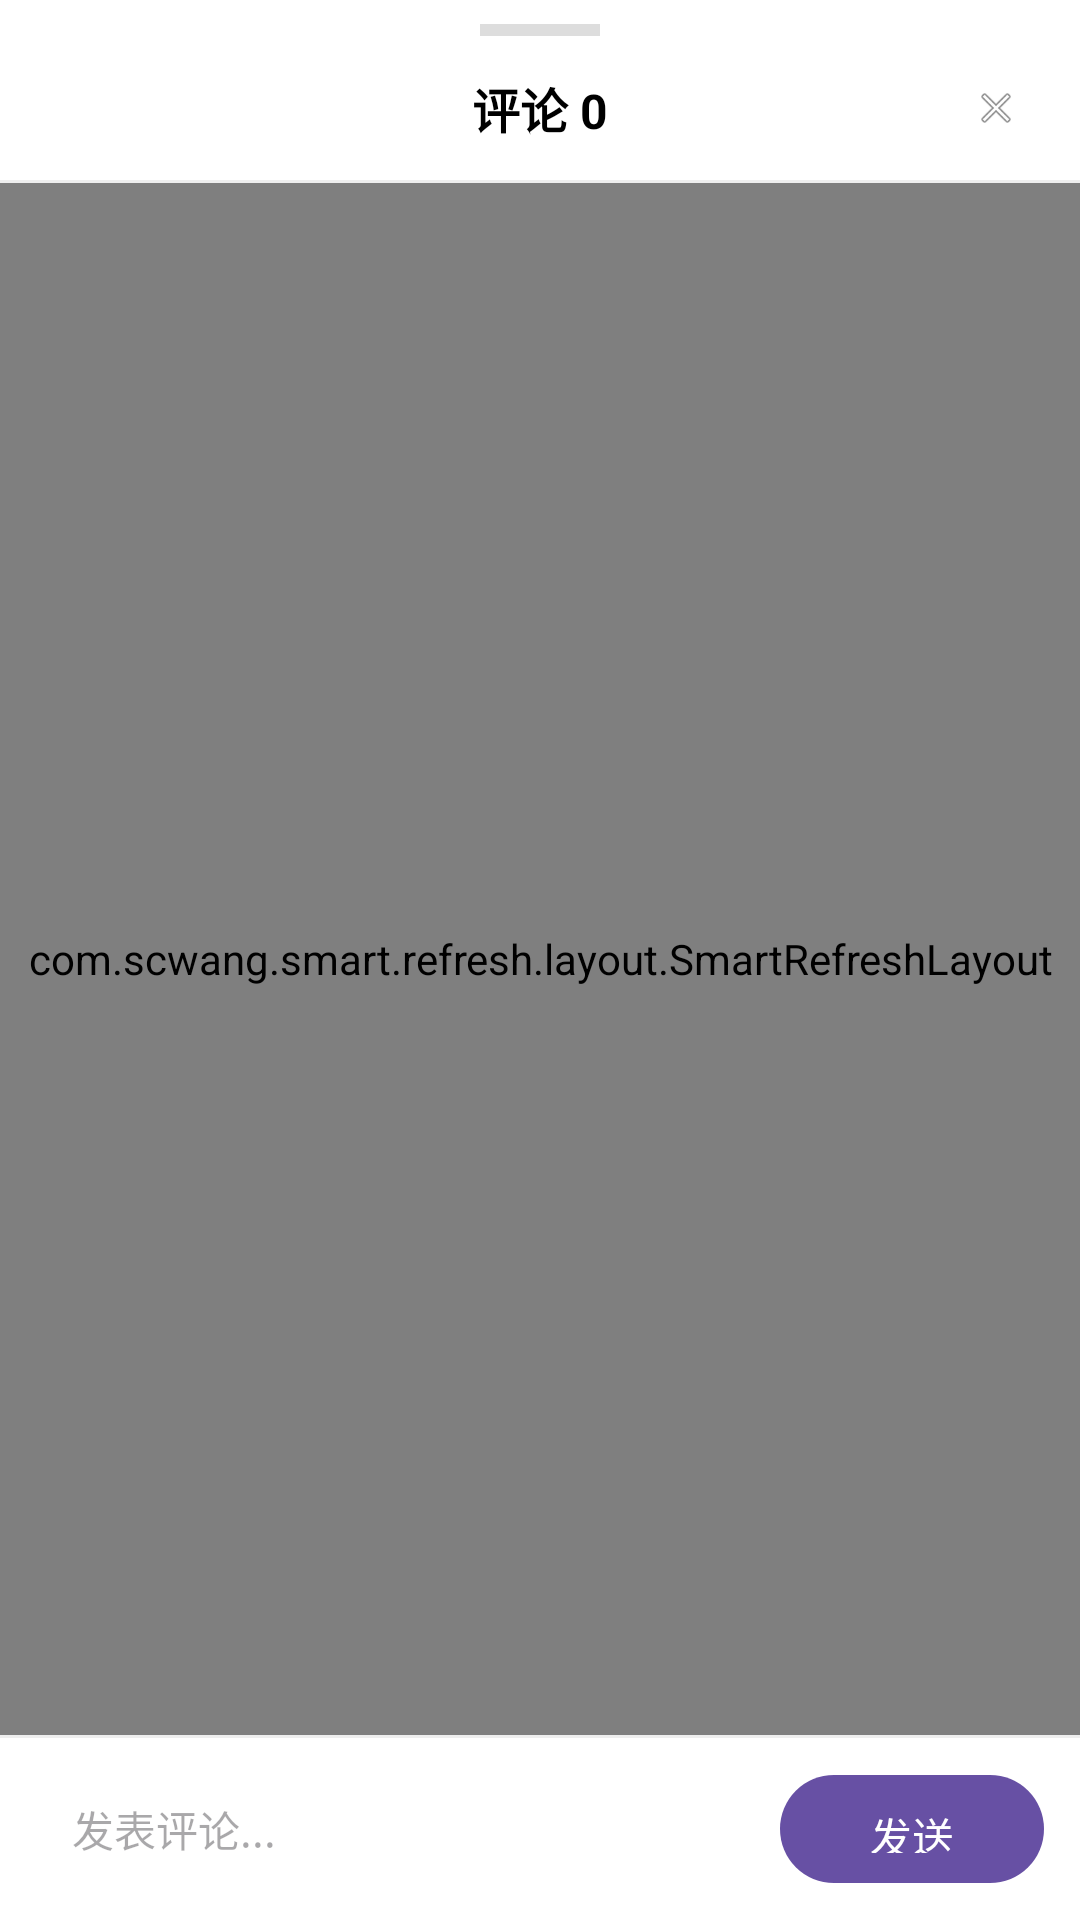

Named icons in this screenshot (1080 x 1920) and their bounding boxes, (x1, y1, x2, y2):
close clear cancel: (981, 93, 1011, 123)
